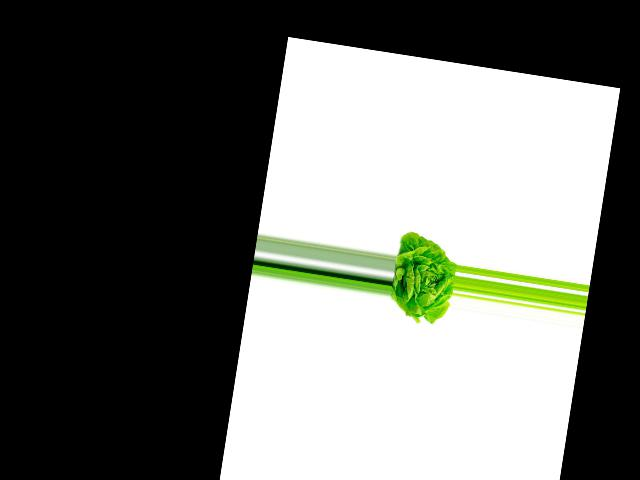lettuce: (386, 228, 461, 324)
